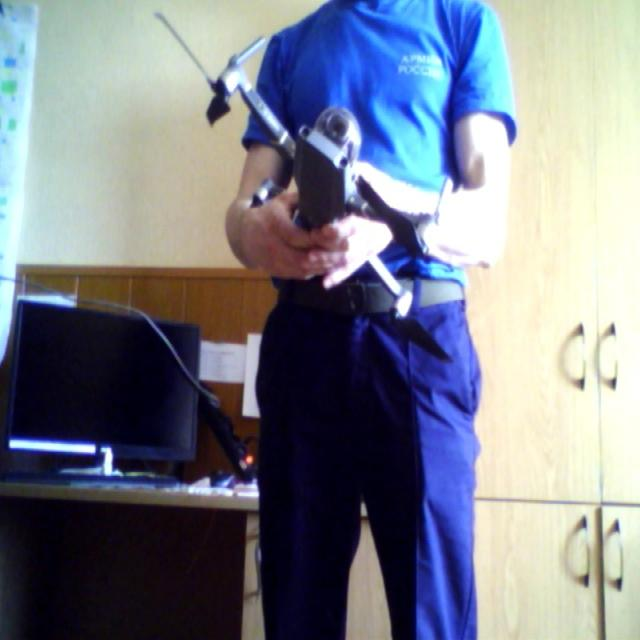drone: (171, 29, 477, 326)
